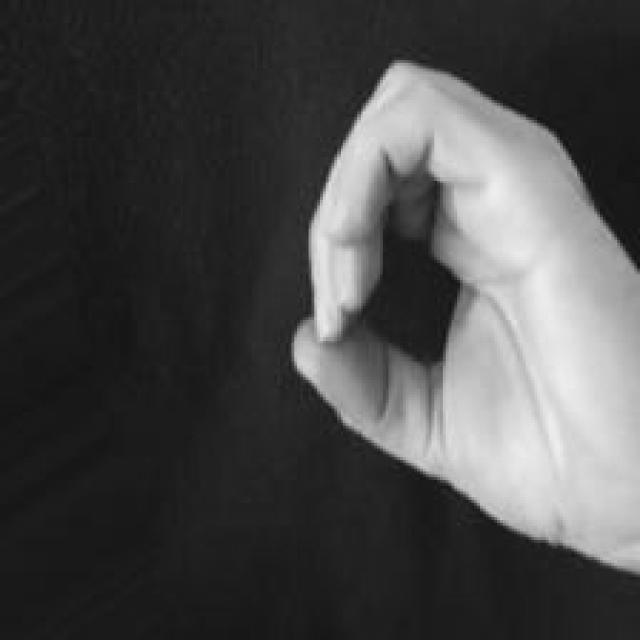O: (285, 37, 640, 577)
